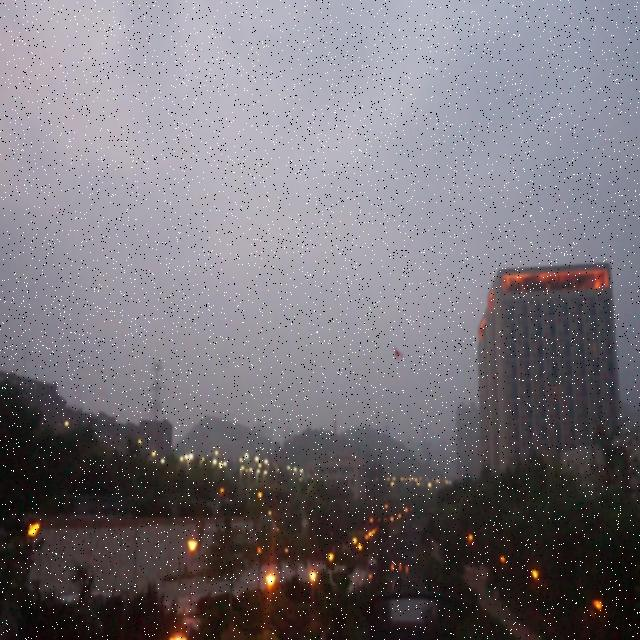UAV: (392, 345, 403, 360)
